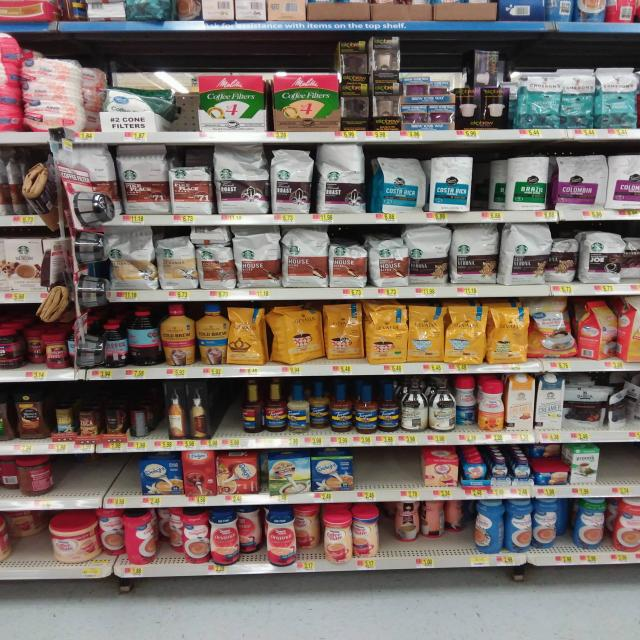void: (60, 456, 137, 494), (362, 449, 416, 486), (606, 446, 638, 484)
